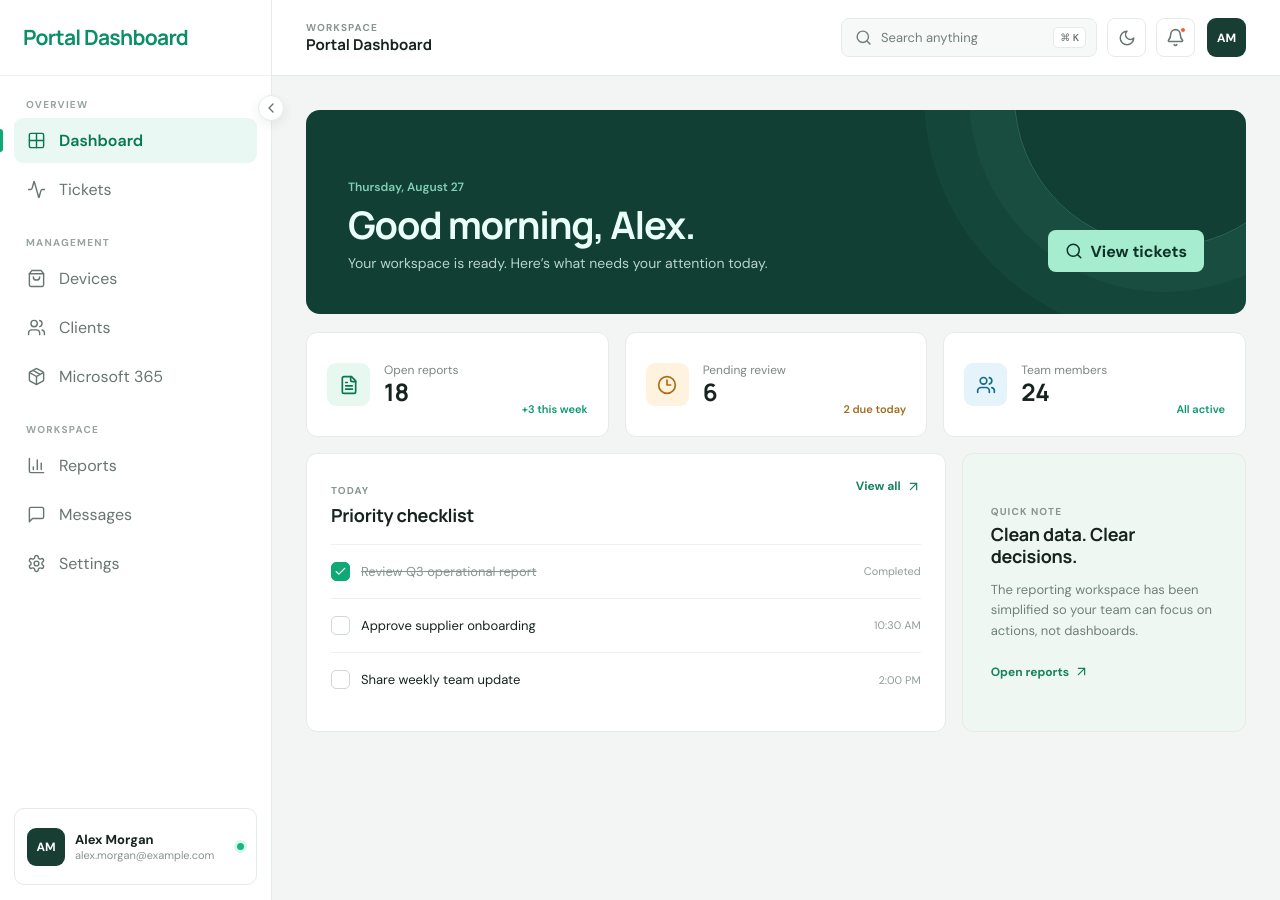
Test: App routing › navigates from the sidebar to the Reports demo
Click the button "Reports": (136, 466) [14,443,257,488]
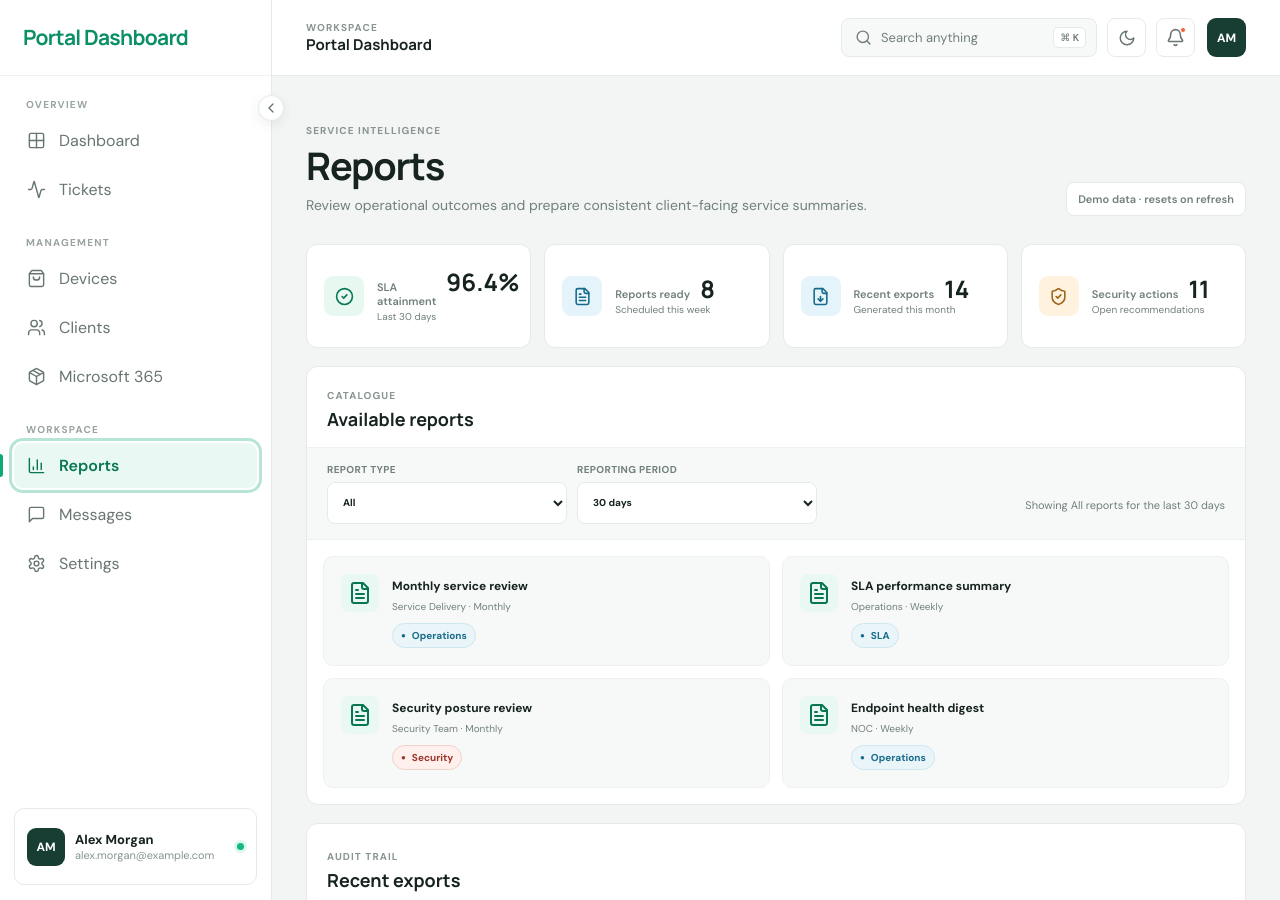
Now the heading "Reports" is shown, box [306,139,444,191]
